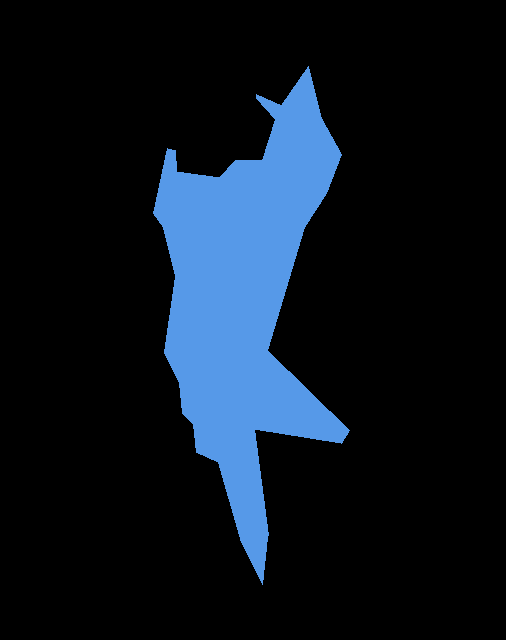Airplane: (153, 66, 349, 584)
